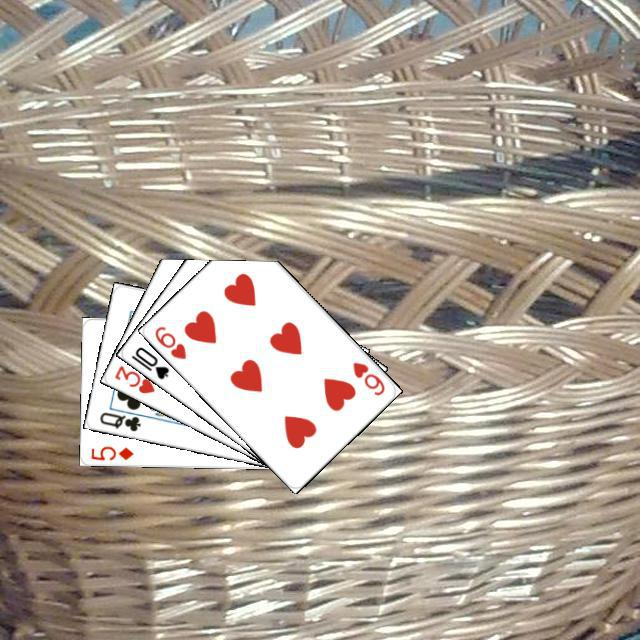10s: (126, 342, 171, 381)
3h: (110, 360, 157, 395)
5d: (86, 441, 135, 462)
6h: (347, 357, 387, 397), (149, 321, 188, 361)
Qc: (95, 401, 148, 433)
